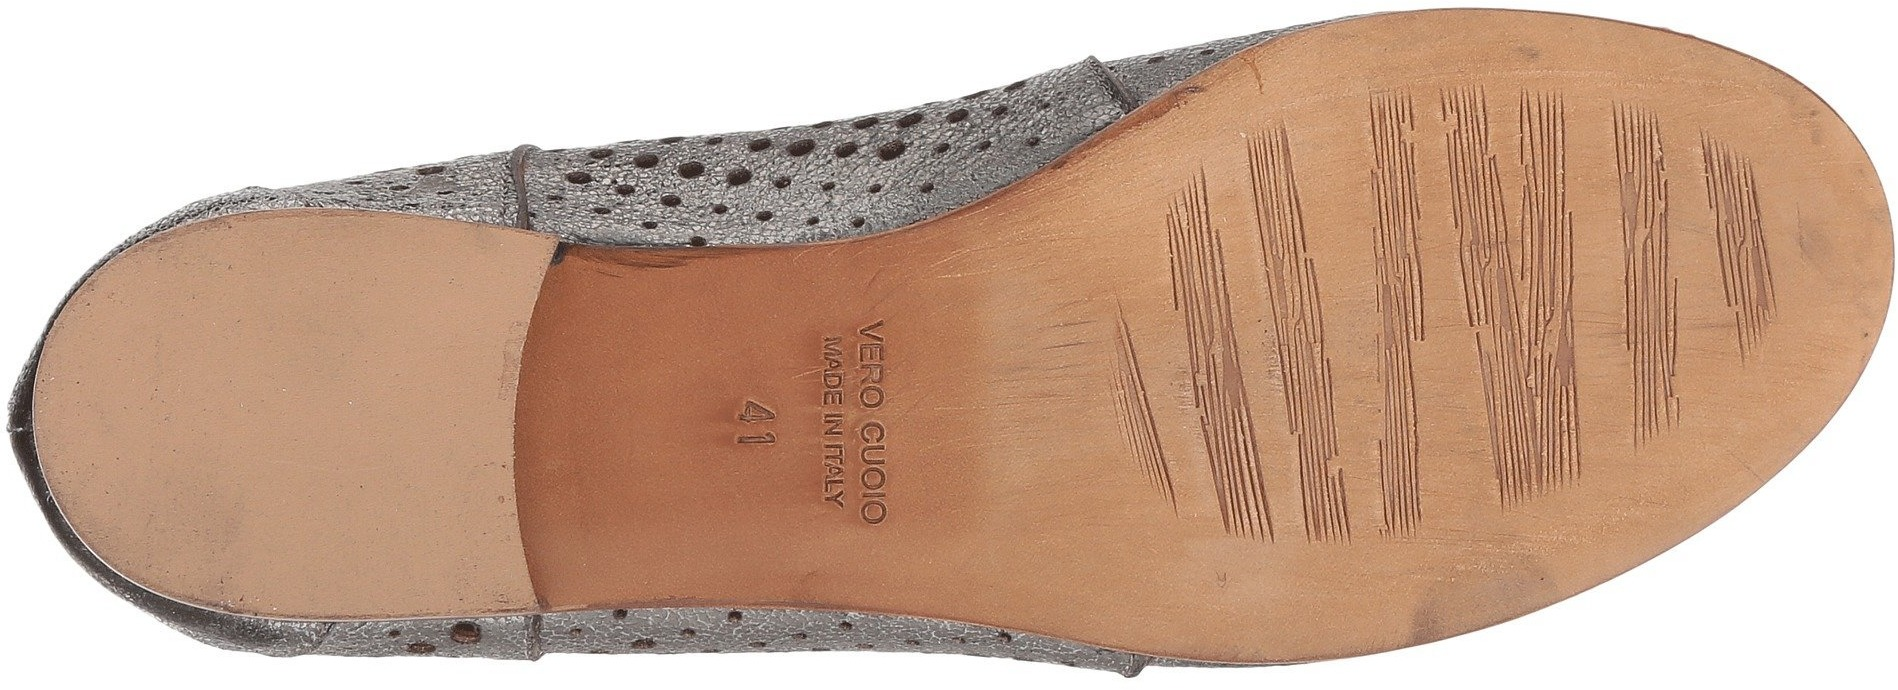other: (99, 288, 372, 560), (951, 445, 1123, 606), (947, 263, 1112, 422)
ribbon: (1304, 149, 1460, 297), (1342, 357, 1489, 502), (1571, 185, 1718, 329), (1148, 303, 1288, 442)
text: (748, 300, 944, 472), (815, 484, 908, 570)
